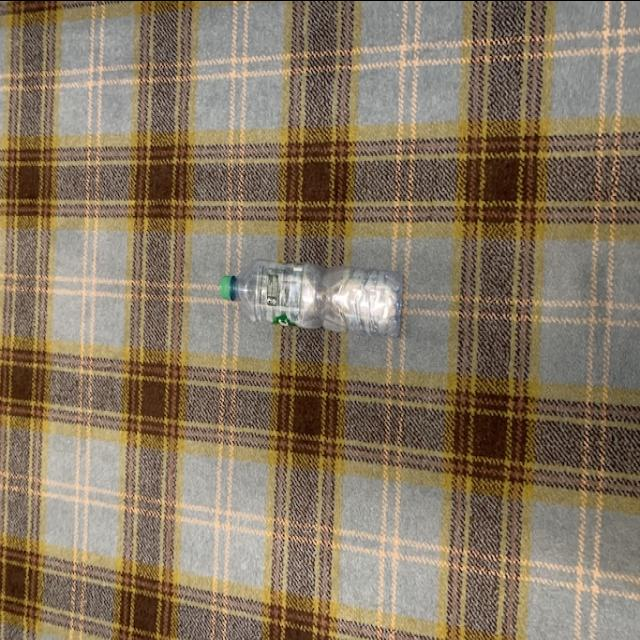PET: (220, 258, 401, 336)
